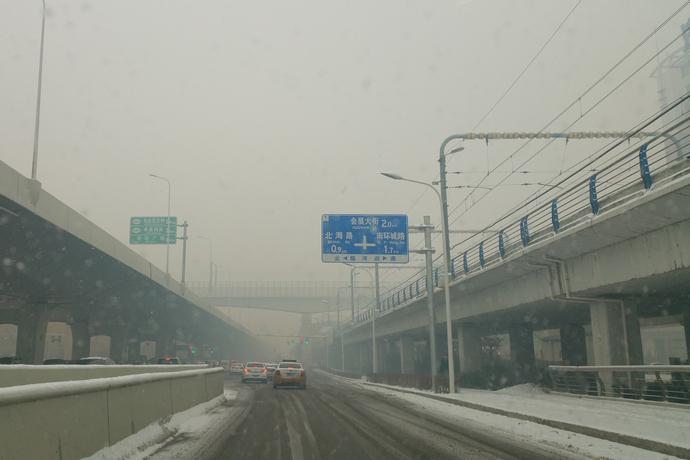car: (272, 359, 307, 388), (79, 356, 116, 380), (155, 357, 183, 379), (240, 362, 269, 383), (229, 362, 245, 375)
